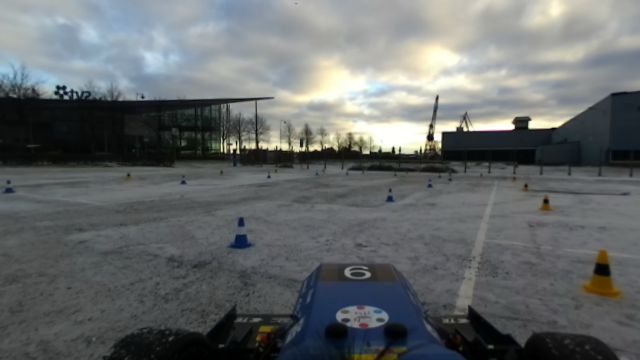blue: (227, 213, 257, 254), (384, 186, 396, 202)
yellow: (582, 248, 625, 302), (538, 193, 554, 213)
